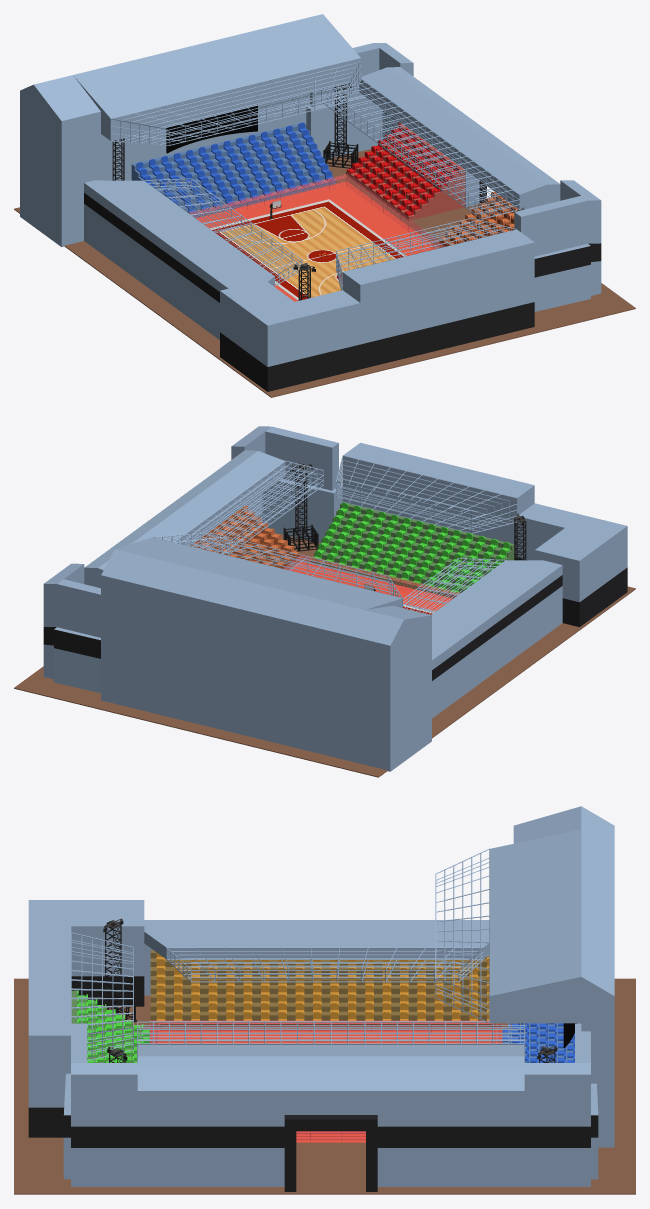
File: basketball court.fbx
3 views of the same model, one above another, from view 1: azimuth 30°, elevation 25°; view 2: azimuth 150°, elevation 25°; view 3: azimuth 270°, elevation 25° (orthographic). The views are drawn at different scales.
Parts seen in each view (by area): view 1: Cube.084, Cube.088, Cube.082, Cube.080, Plane, Plane.003, Cube.073, Cube.083, Cube.072, Cube.085, Plane.001, Cube.077 (+8 smaller); view 2: Cube.084, Cube.082, Cube.088, Cube.080, Plane.003, Cube.071, Cube.070, Cube.089, Cube.083, Cube.085, Cube.079, Plane.001 (+4 smaller); view 3: Cube.082, Cube.084, Plane.003, Cube.088, Cube.080, Cube.074, Cube.075, Cube.083, Cube.081, Plane.001, Plane.002, Cube.085 (+6 smaller).
Part boxes in pixels (x1,y1,x2,y2): Cube.084: (20,14,360,247); Cube.088: (220,229,534,391); Cube.082: (306,43,601,311); Cube.080: (84,180,274,339); Plane: (210,199,406,300); Plane.003: (14,149,635,397); Cube.073: (136,122,334,214); Cube.083: (321,78,519,219); Cube.072: (131,122,336,217); Cube.085: (110,58,361,145); Plane.001: (196,181,437,301); Cube.077: (347,123,459,215); Cube.084: (101,537,431,771); Cube.082: (43,426,342,693); Cube.088: (342,442,627,627); Cube.080: (432,560,562,718); Plane.003: (14,533,635,777); Cube.071: (312,502,510,593); Cube.070: (310,502,514,598); Cube.089: (336,455,517,533); Cube.083: (174,460,323,555); Cube.085: (153,532,402,607); Cube.079: (193,505,298,566); Plane.001: (290,562,452,611); Cube.082: (63,1023,598,1191); Cube.084: (489,806,614,1147); Plane.003: (14,978,635,1194); Cube.088: (28,900,144,1137); Cube.080: (144,920,489,995); Cube.074: (150,950,501,1028); Cube.075: (156,953,495,1023); Cube.083: (137,1021,525,1062); Cube.081: (166,947,483,982); Plane.001: (150,1030,501,1142); Plane.002: (150,1020,502,1142); Cube.085: (435,848,489,1023).
Size of what is drawn, in the model's own units: 1058 by 391 by 1283.
25 materials, 1 textured.
